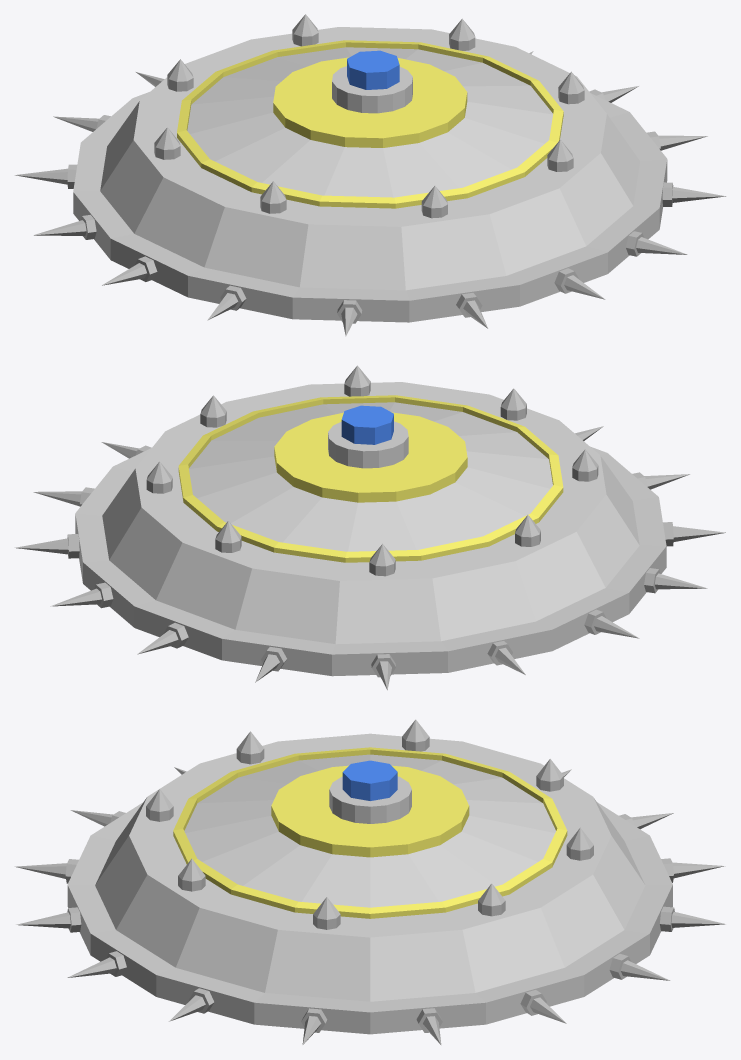
File: Shield_5_e_w.fbx
The picture shows the model from 3 angles, top to bottom: view 1: azimuth 30°, elevation 25°; view 2: azimuth 150°, elevation 25°; view 3: azimuth 270°, elevation 25°; orthographic projection.
Parts seen in each view (by area): view 1: Circle.510, Circle.509, Circle.508, Circle.496, Cone.615, Circle.507, Circle.506, Circle.504, Circle.505, Circle.501, Circle.499, Circle.497 (+3 smaller); view 2: Circle.510, Circle.509, Circle.508, Circle.496, Cone.615, Circle.507, Circle.506, Circle.497, Circle.501, Circle.502, Circle.504, Circle.503 (+3 smaller); view 3: Circle.510, Circle.509, Circle.508, Circle.496, Cone.615, Circle.507, Circle.506, Circle.497, Circle.501, Circle.499, Circle.504, Circle.503 (+3 smaller).
Part boxes in pixels (x1,y1,x2,y2): Circle.510: (100, 27, 640, 290); Circle.509: (73, 92, 667, 322); Circle.508: (273, 57, 467, 147); Circle.496: (177, 40, 563, 208); Cone.615: (14, 51, 725, 336); Circle.507: (332, 66, 412, 113); Circle.506: (347, 50, 399, 89); Circle.504: (167, 59, 193, 91); Circle.505: (154, 127, 180, 159); Circle.501: (558, 71, 584, 104); Circle.499: (421, 186, 447, 218); Circle.497: (260, 181, 286, 213); Circle.510: (102, 382, 639, 644); Circle.509: (75, 446, 666, 676); Circle.508: (274, 412, 467, 502); Circle.496: (178, 395, 563, 562); Cone.615: (14, 426, 725, 690); Circle.507: (328, 421, 408, 468); Circle.506: (341, 405, 393, 444); Circle.497: (572, 449, 598, 481); Circle.501: (200, 395, 226, 427); Circle.502: (146, 461, 172, 493); Circle.504: (369, 544, 395, 576); Circle.503: (215, 521, 241, 552); Circle.510: (95, 733, 645, 1001); Circle.509: (67, 802, 672, 1034); Circle.508: (271, 765, 469, 857); Circle.496: (173, 747, 567, 918); Cone.615: (15, 767, 725, 1044); Circle.507: (329, 776, 411, 823); Circle.506: (342, 760, 397, 800); Circle.497: (236, 731, 264, 764); Circle.501: (313, 897, 340, 929); Circle.499: (146, 789, 173, 821); Circle.504: (536, 759, 563, 791); Circle.503: (566, 827, 593, 860).
Bounding box in the file's own units: 64.58 × 19.57 × 64.77.
